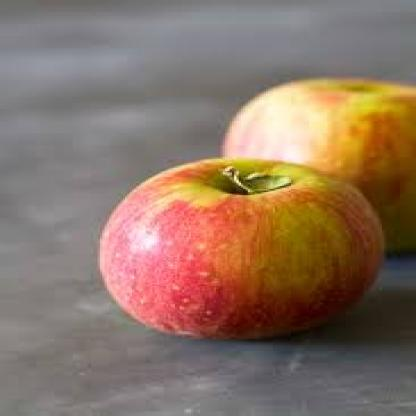apple: (107, 160, 386, 360), (223, 77, 414, 201)
